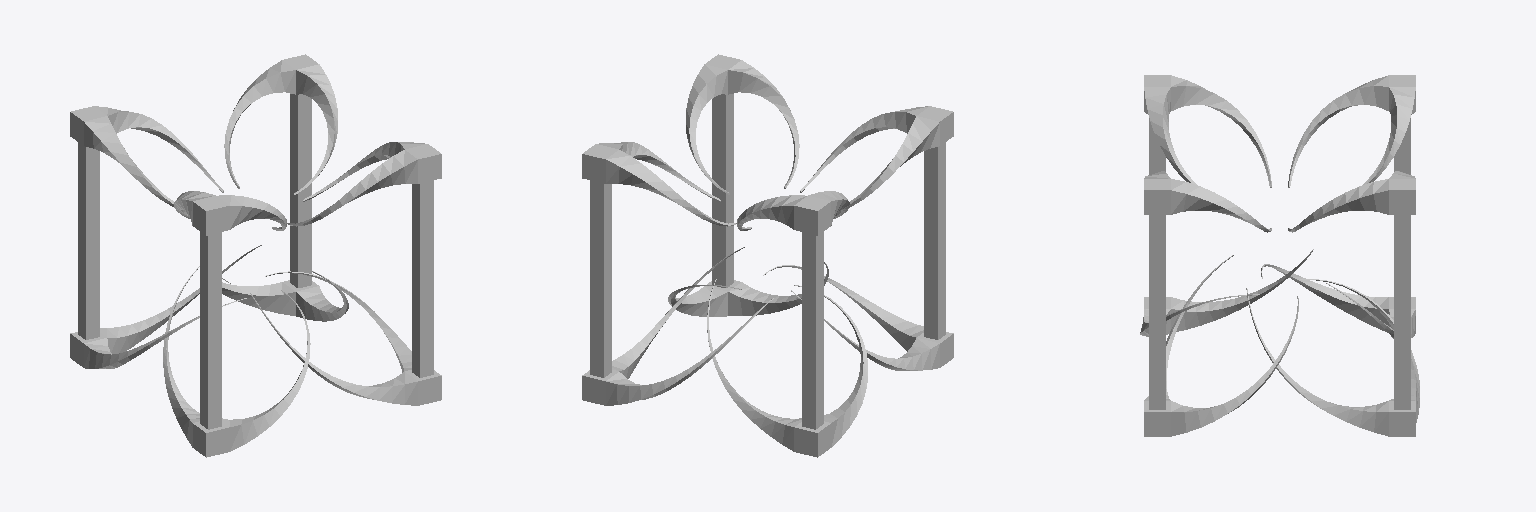
The model's file is TileTimeExpander.obj.
3 views of the same model, side by side, from view 1: azimuth 30°, elevation 25°; view 2: azimuth 150°, elevation 25°; view 3: azimuth 270°, elevation 25° (orthographic).
Visible parts, largest first — view 1: stolb_6, stolb_3, stolb_5, stolb_4; view 2: stolb_4, stolb_5, stolb_3, stolb_6; view 3: stolb_4, stolb_6, stolb_5, stolb_3.
Part boxes in pixels (x1,y1,x2,y2): stolb_6: (250,142,441,405); stolb_3: (70,106,261,368); stolb_5: (163,191,310,457); stolb_4: (222,54,348,321); stolb_4: (582,142,773,405); stolb_5: (763,106,953,370); stolb_3: (707,191,867,457); stolb_6: (668,54,828,316); stolb_4: (1246,171,1419,436); stolb_6: (1144,171,1298,436); stolb_5: (1140,75,1313,336); stolb_3: (1261,75,1415,338).
Size of the model in its own units: 1.03 by 1 by 1.03.